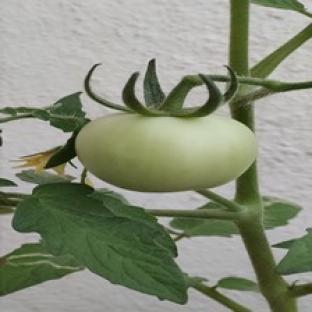Tomato: (76, 113, 256, 192)
